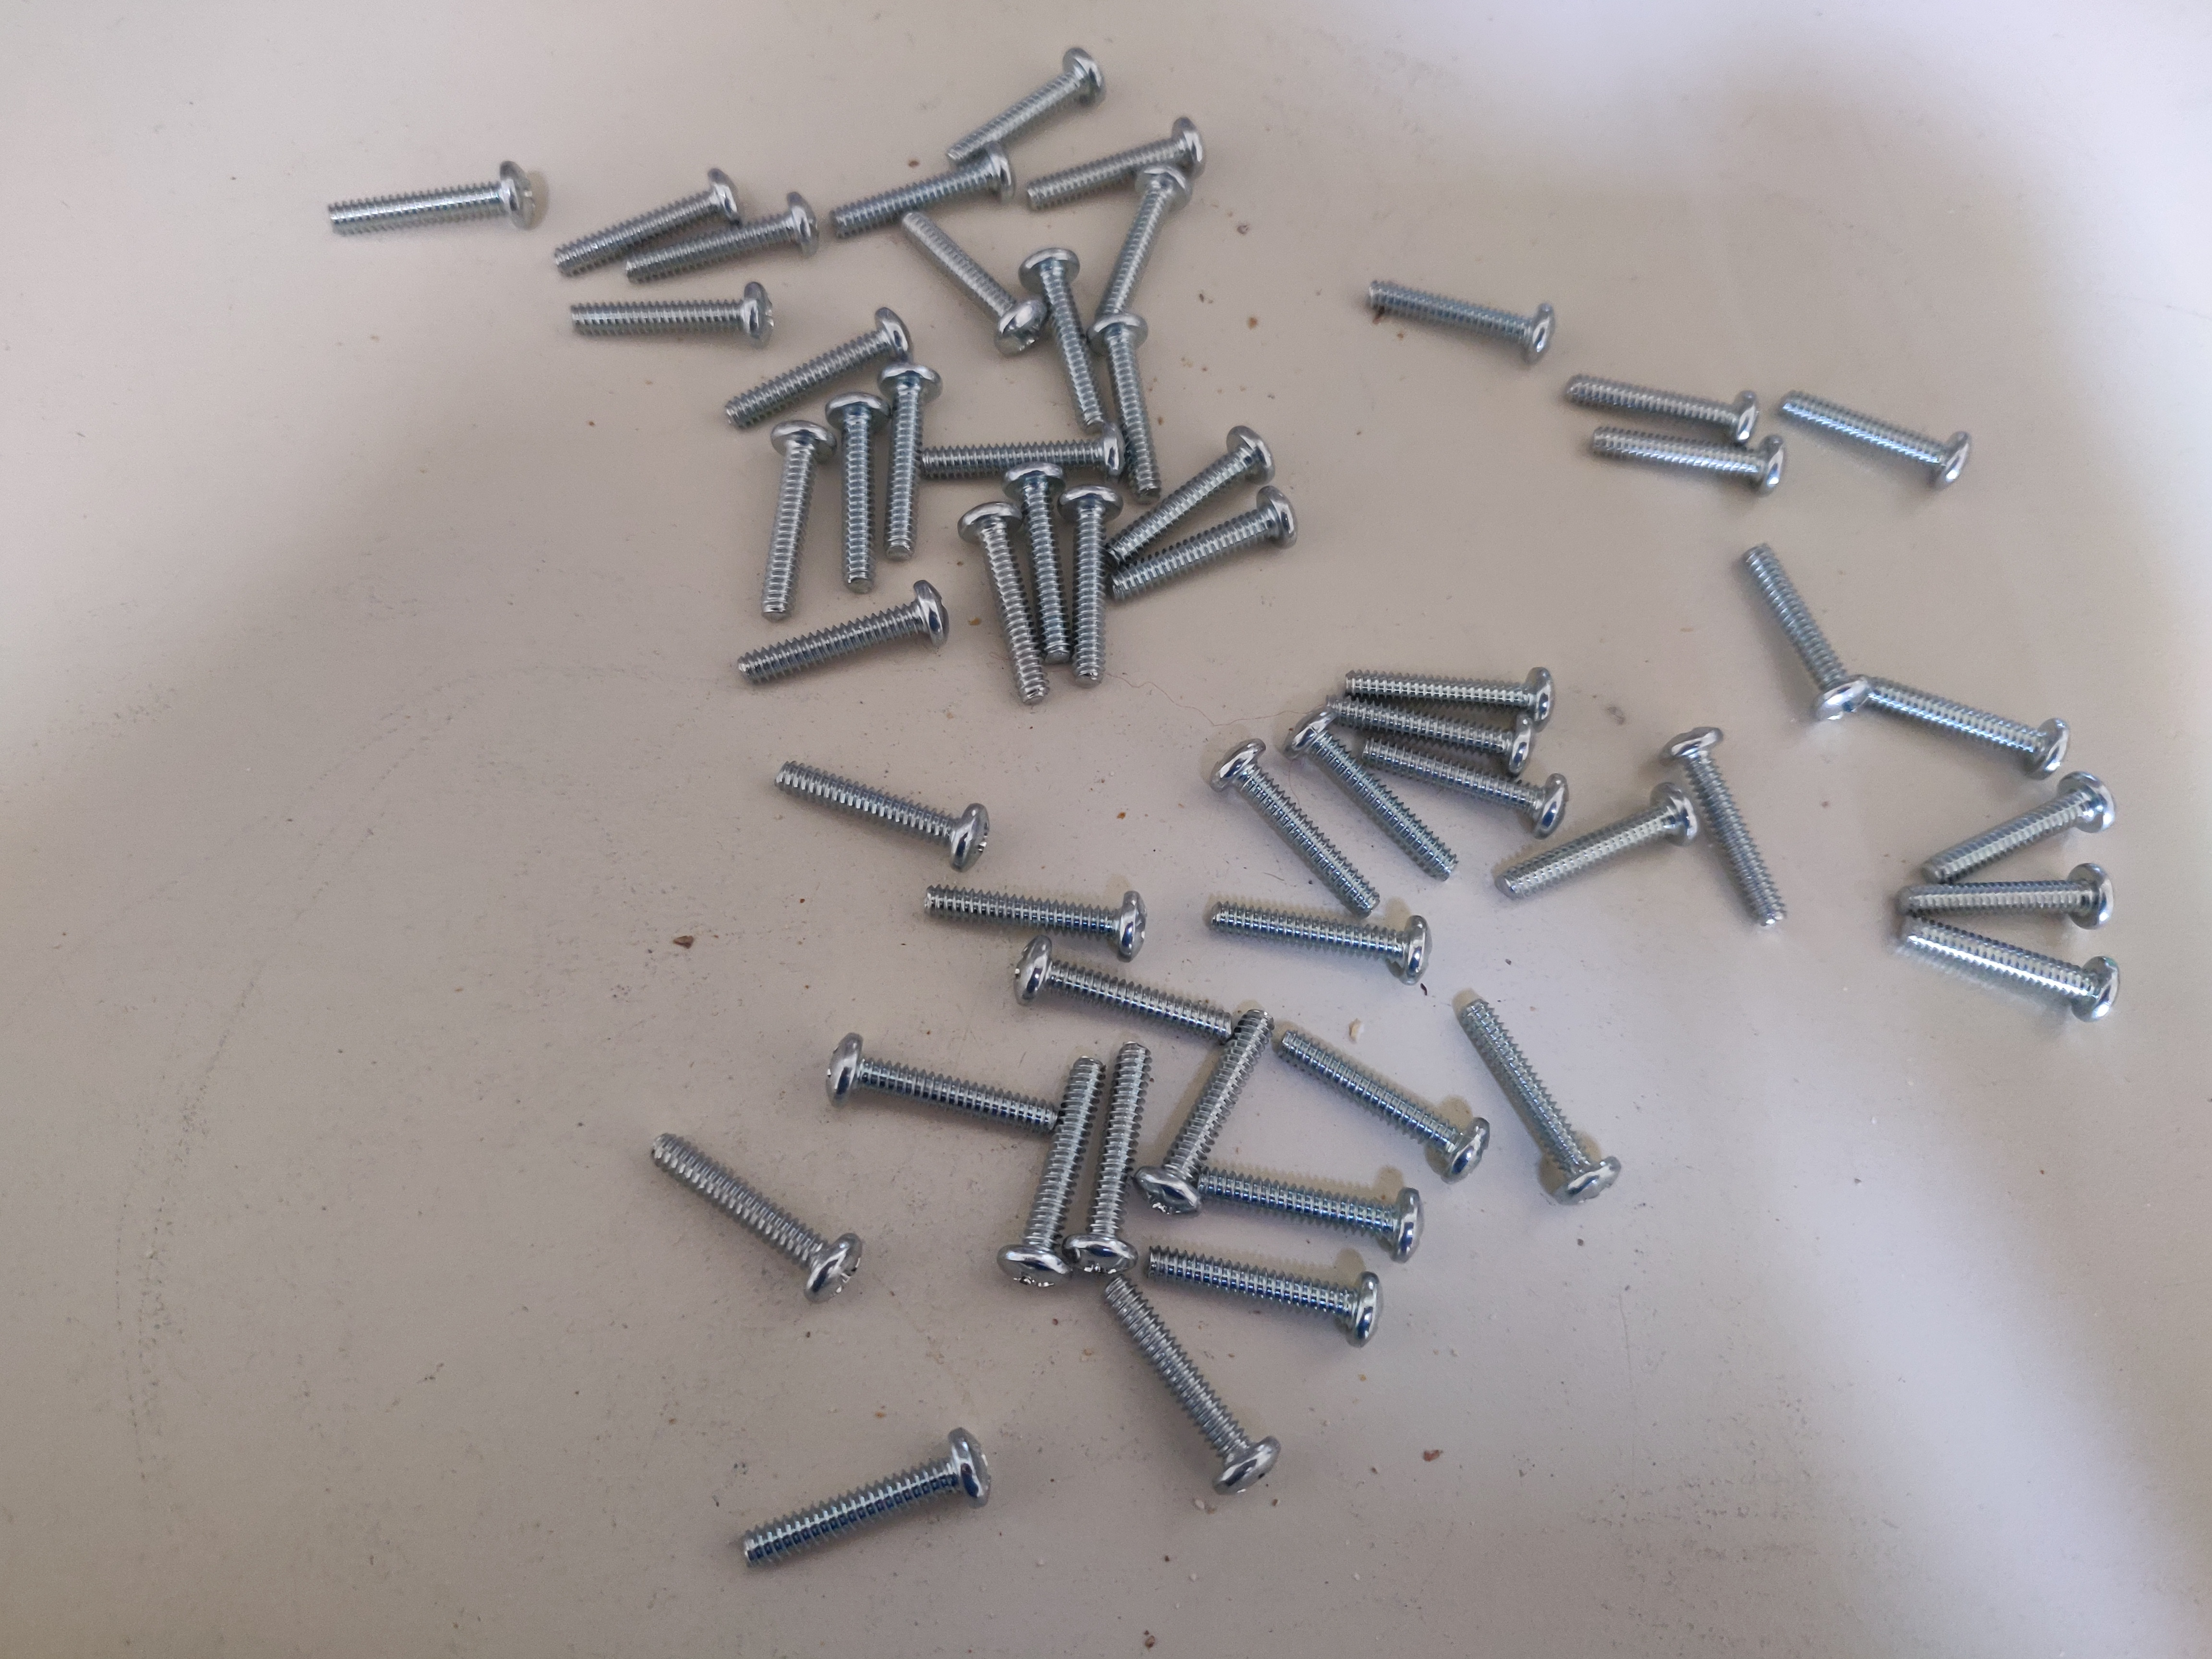longscrew: (1099, 1274, 1282, 1504), (641, 1127, 871, 1305), (725, 1424, 993, 1572), (1449, 993, 1623, 1213), (1266, 1026, 1493, 1187), (1205, 737, 1383, 924), (1132, 1002, 1277, 1223), (1280, 709, 1458, 884), (989, 1051, 1113, 1295), (1660, 725, 1792, 938), (1496, 777, 1705, 904), (820, 1032, 1062, 1141), (1731, 540, 1871, 730), (770, 756, 996, 873), (1909, 763, 2120, 887), (1183, 1164, 1425, 1270), (1897, 913, 2121, 1025), (721, 305, 913, 436), (1012, 936, 1244, 1044), (730, 575, 951, 687), (1851, 671, 2076, 781), (1355, 734, 1573, 843), (1104, 423, 1275, 563), (1108, 484, 1299, 608), (1057, 1037, 1155, 1279), (895, 206, 1049, 359), (1773, 385, 1979, 497), (550, 164, 744, 282), (738, 416, 846, 622), (1202, 897, 1439, 986), (953, 500, 1049, 716), (618, 190, 822, 291), (939, 44, 1108, 164), (824, 138, 1019, 239), (920, 880, 1155, 964), (1348, 275, 1559, 368), (1015, 244, 1113, 437), (1089, 162, 1198, 331), (1022, 115, 1209, 213), (326, 157, 542, 239), (1320, 694, 1536, 775), (1883, 859, 2121, 931), (1557, 368, 1764, 450), (913, 416, 1132, 490), (996, 460, 1073, 669), (1338, 659, 1559, 730), (563, 279, 782, 350), (1588, 423, 1789, 500), (1087, 314, 1165, 500), (822, 392, 894, 591), (874, 359, 944, 559), (1057, 483, 1123, 687)
